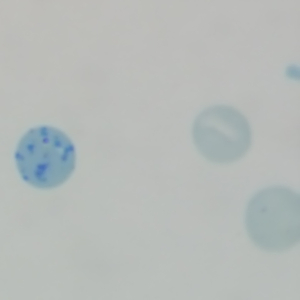aggregate reticulocyte: (12, 125, 78, 191)
erythrocyte: (242, 183, 300, 254), (190, 103, 253, 166)
